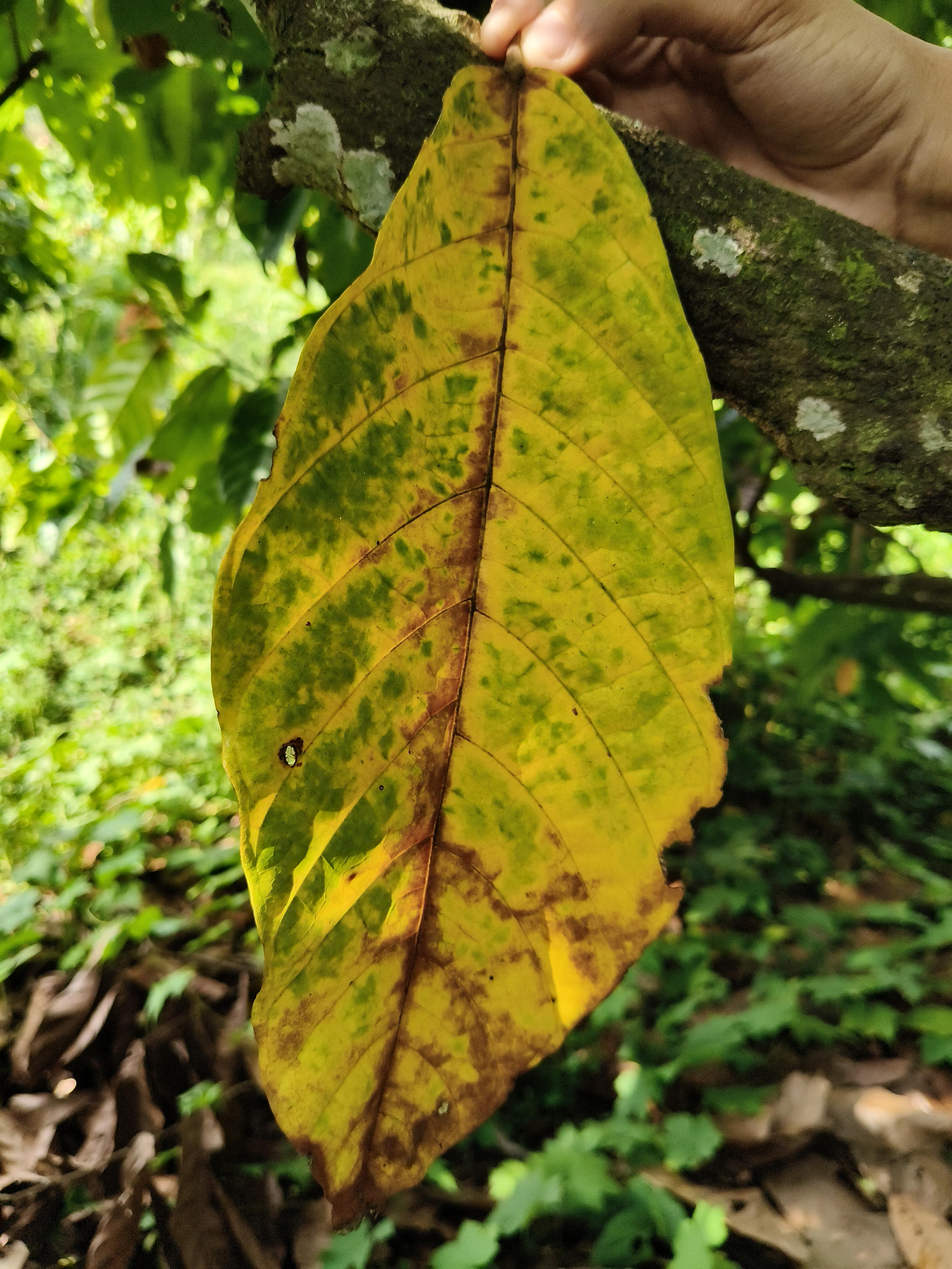deficiencia_potasio: (178, 32, 760, 1238)
